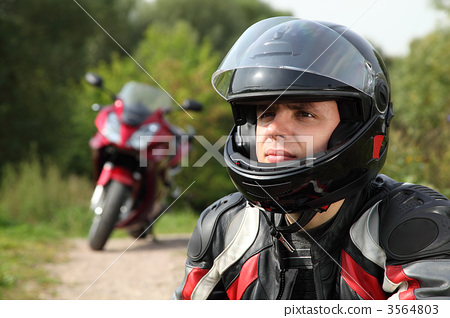helmet: (212, 21, 386, 203)
